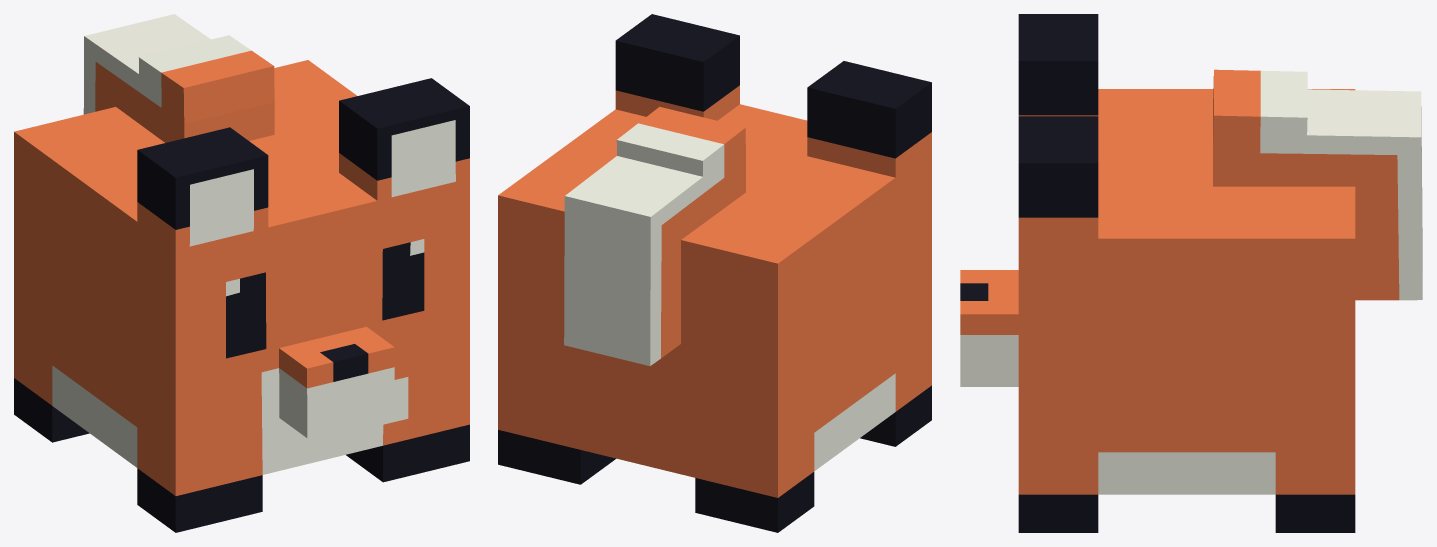
Rendered from animal1.fbx.
3 views of the same model, side by side, from view 1: azimuth 30°, elevation 25°; view 2: azimuth 150°, elevation 25°; view 3: azimuth 270°, elevation 25° (orthographic). The views are drawn at different scales.
Visible parts, largest first — view 1: Cube.001; view 2: Cube.001; view 3: Cube.001.
Boxes of the visible parts, x1,y1,x2,y2 form: Cube.001: (14, 14, 469, 532); Cube.001: (498, 14, 931, 532); Cube.001: (960, 14, 1422, 532).
Bounding box in the file's own units: 197 × 227 × 257.
1 material, 1 textured.
